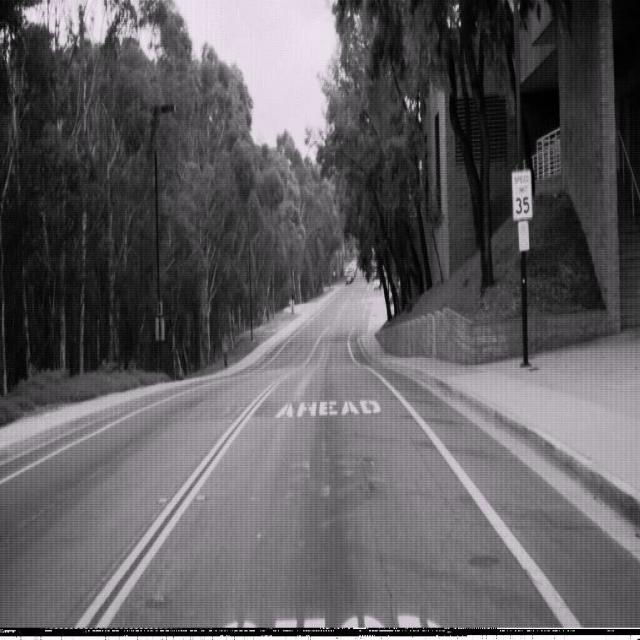speedLimit35: (510, 168, 532, 221)
